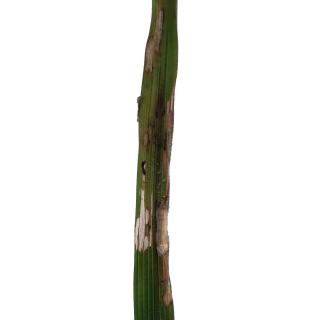Hawar-Daun: (137, 181, 170, 255), (147, 6, 173, 90), (154, 244, 172, 311)
